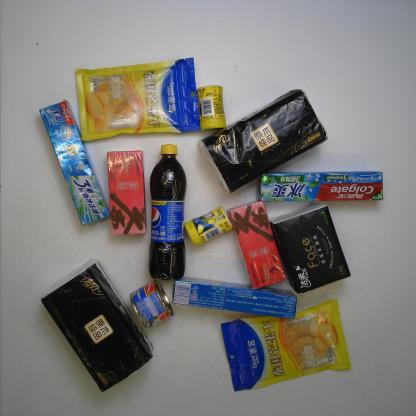Canned Food: (129, 280, 175, 329)
Dried Fruit: (218, 296, 354, 394), (74, 51, 202, 138)
Drink: (143, 140, 190, 282)
Gum: (180, 204, 232, 248), (192, 83, 230, 132)
Instant Drink: (225, 197, 288, 292), (104, 145, 148, 240)
Personal Hygiene: (37, 94, 109, 224), (168, 274, 301, 324), (252, 166, 387, 206)
Tissue: (36, 258, 152, 392), (196, 86, 330, 194), (265, 200, 354, 297)
